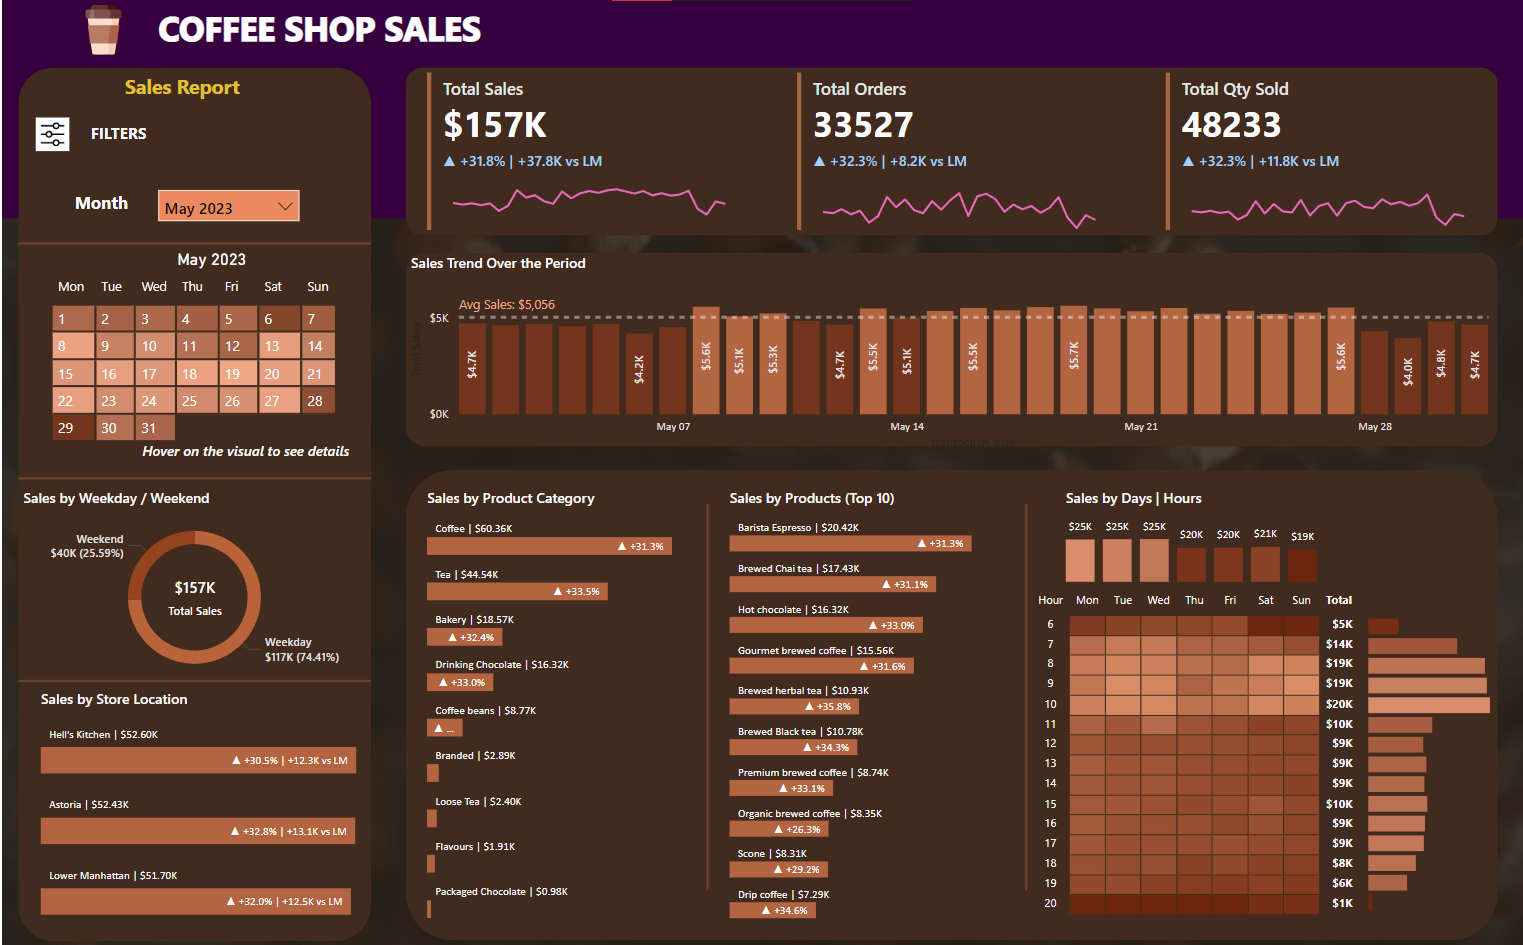

The dashboard page shown, as its layout file describes it:
{"tool":"powerbi","page":{"name":"Page 1","canvas":[1450,900],"ordinal":0},"visuals":[{"type":"shape","box":[-6,0,1456,208],"z":0},{"type":"cardVisual","fields":{"Data":["Measure Table.Total Sales"]},"box":[400,64,304,160],"z":0,"group":"g1"},{"type":"cardVisual","fields":{"Data":["Measure Table.Total Orders"]},"box":[752,64,304,160],"z":0,"group":"g2"},{"type":"cardVisual","fields":{"Data":["Measure Table.Total Qty Sold"]},"box":[1104,64,304,160],"z":0,"group":"g3"},{"type":"shape","box":[16,64,336,832],"z":1000},{"type":"lineChart","fields":{"Y":["Measure Table.Total Sales"],"Category":["Date Table.Date.Variation.Date Hierarchy.Year","Date Table.Date.Variation.Date Hierarchy.Quarter","Date Table.Date.Variation.Date Hierarchy.Month","Date Table.Date.Variation.Date Hierarchy.Day"]},"box":[416,144,288,80],"z":1000,"group":"g1"},{"type":"lineChart","fields":{"Category":["Date Table.Date.Variation.Date Hierarchy.Year","Date Table.Date.Variation.Date Hierarchy.Quarter","Date Table.Date.Variation.Date Hierarchy.Month","Date Table.Date.Variation.Date Hierarchy.Day"],"Y":["Measure Table.Total Orders"]},"box":[768,144,288,80],"z":1000,"group":"g2"},{"type":"lineChart","fields":{"Category":["Date Table.Date.Variation.Date Hierarchy.Year","Date Table.Date.Variation.Date Hierarchy.Quarter","Date Table.Date.Variation.Date Hierarchy.Month","Date Table.Date.Variation.Date Hierarchy.Day"],"Y":["Measure Table.Total Qty Sold"]},"box":[1120,144,288,80],"z":1000,"group":"g3"},{"type":"shape","box":[384,64,1040,160],"z":2000},{"type":"textbox","box":[144,0,336,64],"z":3000},{"type":"slicer","fields":{"Values":["Date Table.Month Year"]},"box":[144,176,144,48],"z":4000},{"type":"group","id":"g1","title":"Group 1","box":[400,64,304,160],"z":5000},{"type":"group","id":"g2","title":"Group 1","box":[752,64,304,160],"z":6000},{"type":"group","id":"g3","title":"Group 1","box":[1104,64,304,160],"z":7000},{"type":"pivotTable","fields":{"Rows":["Date Table.Week Number"],"Columns":["Date Table.Day Name"],"Values":["Min(Date Table.Day Number)"]},"box":[16,256,336,176],"z":8000},{"type":"card","fields":{"Values":["Min(Date Table.Month Year)"]},"box":[144,224,112,48],"z":9000},{"type":"card","fields":{"Values":["Measure Table.Foot Note"]},"box":[96,416,272,32],"z":10000},{"type":"shape","box":[16,448,336,16],"z":11000},{"type":"donutChart","title":"Sales by Weekday / Weekend","fields":{"Category":["Date Table.Weekday / Weekend"],"Y":["Measure Table.Total Sales"]},"box":[16,464,336,192],"z":12000},{"type":"card","fields":{"Values":["Measure Table.Total Sales"]},"box":[144,544,80,48],"z":13000},{"type":"shape","box":[16,640,336,16],"z":14000},{"type":"clusteredBarChart","title":"Sales by Store Location","fields":{"Category":["Transactions.store_location"],"Y":["Measure Table.Placeholder","Measure Table.Total Sales"]},"box":[32,656,336,224],"z":15000},{"type":"shape","box":[384,240,1040,185],"z":16000},{"type":"columnChart","title":"Sales Trend Over the Period","fields":{"Category":["Transactions.transaction_date"],"Y":["Measure Table.Total Sales"]},"box":[384,240,1040,192],"z":17000},{"type":"shape","box":[384,448,1040,448],"z":18000},{"type":"clusteredBarChart","title":"Sales by Product Category","fields":{"Y":["Measure Table.Placeholder","Measure Table.Total Sales"],"Category":["Transactions.product_category"]},"box":[400,464,272,416],"z":19000},{"type":"shape","box":[656,480,32,368],"z":20000},{"type":"shape","box":[960,480,32,368],"z":21000},{"type":"clusteredBarChart","title":"Sales by Products (Top 10)","fields":{"Y":["Measure Table.Placeholder","Measure Table.Total Sales"],"Category":["Transactions.product_type"]},"box":[688,464,272,416],"z":22000},{"type":"pivotTable","fields":{"Rows":["Transactions.Hour"],"Columns":["Date Table.Day Name"],"Values":["Measure Table.Total Sales"]},"box":[976,560,320,320],"z":23000},{"type":"barChart","fields":{"Category":["Transactions.Hour"],"Y":["Measure Table.Total Sales"]},"box":[1296,576,128,296],"z":24000},{"type":"columnChart","title":"Sales by Days | Hours","fields":{"Y":["Measure Table.Total Sales"],"Category":["Date Table.Day Name"]},"box":[1008,464,250,96],"z":25000},{"type":"textbox","box":[64,176,80,48],"z":26000},{"type":"textbox","box":[112,64,160,48],"z":27000},{"type":"textbox","box":[80,112,112,48],"z":28000},{"type":"shape","box":[16,224,336,16],"z":29000},{"type":"image","box":[64,0,64,57],"z":30000},{"type":"image","box":[32,112,32,32],"z":31000}]}

Visuals, with their boxes in screenshot pixels (x1, y1, x2, y2), scaled from the page's 1450x900 canvas onto the 1523x945 screenshot:
shape: detection(0, 0, 1522, 218)
cardVisual - Measure Table.Total Sales: detection(420, 67, 739, 235)
cardVisual - Measure Table.Total Orders: detection(790, 67, 1109, 235)
cardVisual - Measure Table.Total Qty Sold: detection(1160, 67, 1479, 235)
shape: detection(17, 67, 370, 941)
lineChart - Measure Table.Total Sales x Date Table.Date.Variation.Date Hierarchy.Year: detection(437, 151, 739, 235)
lineChart - Date Table.Date.Variation.Date Hierarchy.Year x Date Table.Date.Variation.Date Hierarchy.Quarter: detection(807, 151, 1109, 235)
lineChart - Date Table.Date.Variation.Date Hierarchy.Year x Date Table.Date.Variation.Date Hierarchy.Quarter: detection(1176, 151, 1479, 235)
shape: detection(403, 67, 1496, 235)
textbox: detection(151, 0, 504, 67)
slicer - Date Table.Month Year: detection(151, 185, 302, 235)
"Group 1" group: detection(420, 67, 739, 235)
"Group 1" group: detection(790, 67, 1109, 235)
"Group 1" group: detection(1160, 67, 1479, 235)
pivotTable - Date Table.Week Number x Date Table.Day Name: detection(17, 269, 370, 454)
card - Min(Date Table.Month Year): detection(151, 235, 269, 286)
card - Measure Table.Foot Note: detection(101, 437, 387, 470)
shape: detection(17, 470, 370, 487)
"Sales by Weekday / Weekend" donutChart: detection(17, 487, 370, 689)
card - Measure Table.Total Sales: detection(151, 571, 235, 622)
shape: detection(17, 672, 370, 689)
"Sales by Store Location" clusteredBarChart: detection(34, 689, 387, 924)
shape: detection(403, 252, 1496, 446)
"Sales Trend Over the Period" columnChart: detection(403, 252, 1496, 454)
shape: detection(403, 470, 1496, 941)
"Sales by Product Category" clusteredBarChart: detection(420, 487, 706, 924)
shape: detection(689, 504, 723, 890)
shape: detection(1008, 504, 1042, 890)
"Sales by Products (Top 10)" clusteredBarChart: detection(723, 487, 1008, 924)
pivotTable - Transactions.Hour x Date Table.Day Name: detection(1025, 588, 1361, 924)
barChart - Transactions.Hour x Measure Table.Total Sales: detection(1361, 605, 1496, 916)
"Sales by Days | Hours" columnChart: detection(1059, 487, 1321, 588)
textbox: detection(67, 185, 151, 235)
textbox: detection(118, 67, 286, 118)
textbox: detection(84, 118, 202, 168)
shape: detection(17, 235, 370, 252)
image: detection(67, 0, 134, 60)
image: detection(34, 118, 67, 151)
